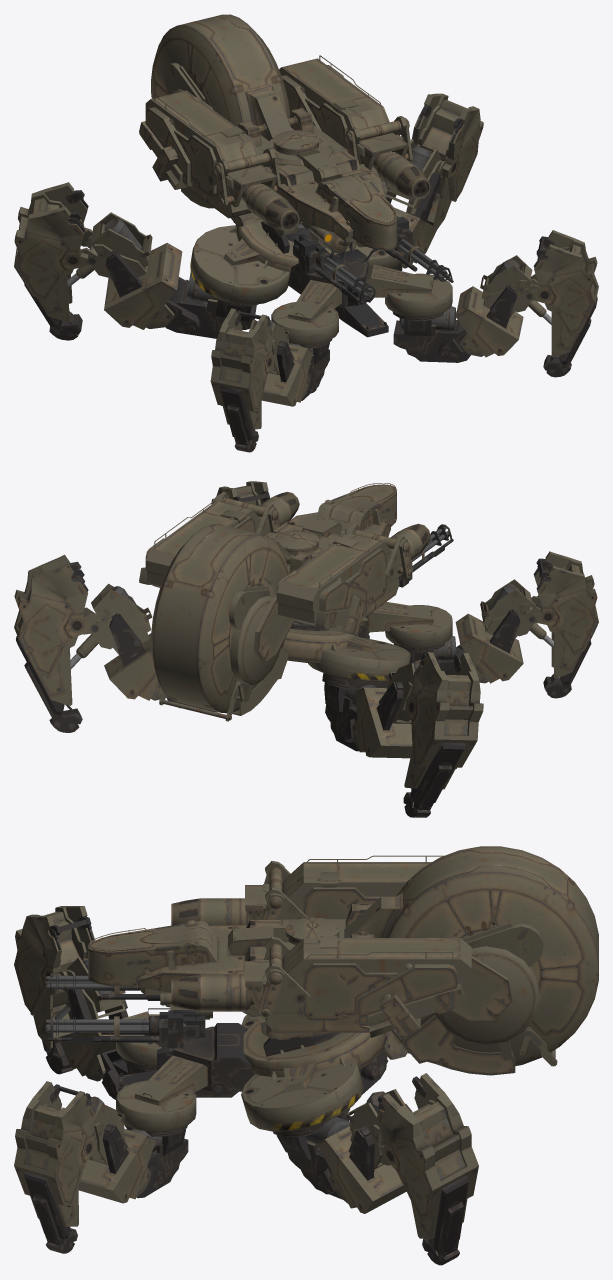
The model's file is Spider_Tank.FBX.
The picture shows the model from 3 angles, top to bottom: view 1: azimuth 30°, elevation 25°; view 2: azimuth 150°, elevation 25°; view 3: azimuth 270°, elevation 25°; orthographic projection. The views are drawn at different scales.
Parts seen in each view (by area): view 1: mesh0 (×5); view 2: mesh0 (×5); view 3: mesh0 (×5).
Part boxes in pixels (x1=…): mesh0 (×5): x1=14, y1=14, x2=598, y2=452; mesh0 (×5): x1=14, y1=481, x2=598, y2=817; mesh0 (×5): x1=14, y1=846, x2=598, y2=1265.
Bounding box in the file's own units: 7.64 × 3.95 × 6.95.
Materials: 1 (1 with a texture image).
